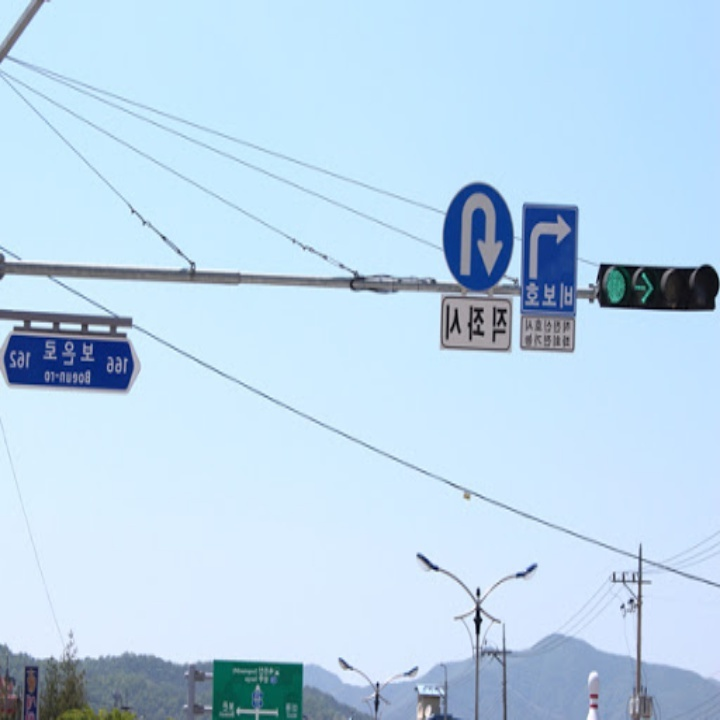right: (524, 210, 575, 283)
